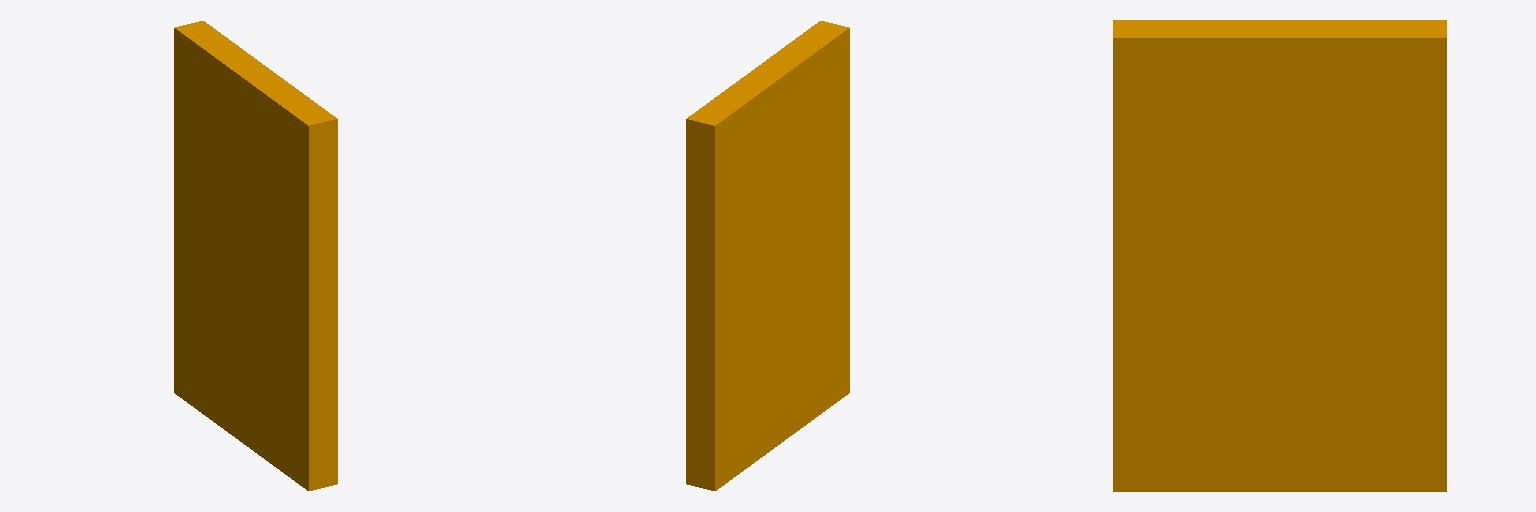
robot.urdf — camera_box_big:
<?xml version="1.0"?>
<robot name="camera_box_big">
  <link name="camera_box_link">
    <visual name="cam_box">
      <origin xyz="0.05 0.00 0.6" rpy="0 0 0"/>
      <geometry>
        <box size="0.1 0.8 1.2"/>
      </geometry>
    </visual>
    <collision name="cam_box">
      <origin xyz="0.05 0.00 0.6" rpy="0 0 0"/>
      <geometry>
        <box size="0.1 0.8 1.2"/>
      </geometry>
    </collision>
  </link>
</robot>

--- What the picture shows (computed from the rendered views, not written in the file) ---
Views: 3 orthographic renders of the robot side by side, from view 1: azimuth 30°, elevation 25°; view 2: azimuth 150°, elevation 25°; view 3: azimuth 270°, elevation 25°.
Model camera_box_big with 1 links and 0 joints (none), rooted at camera_box_link, posed all joints at 0.
Visible links, largest first — view 1: camera_box_link; view 2: camera_box_link; view 3: camera_box_link.
Link boxes in pixels (box(x1,y1,x2,y2)): camera_box_link: box(174, 21, 337, 490); camera_box_link: box(686, 21, 849, 490); camera_box_link: box(1113, 20, 1446, 491).
Bounding box of the posed robot: 0.1 × 0.8 × 1.2 m (x, y, z).
Geometry: primitives only (box / cylinder / sphere), no mesh files.
